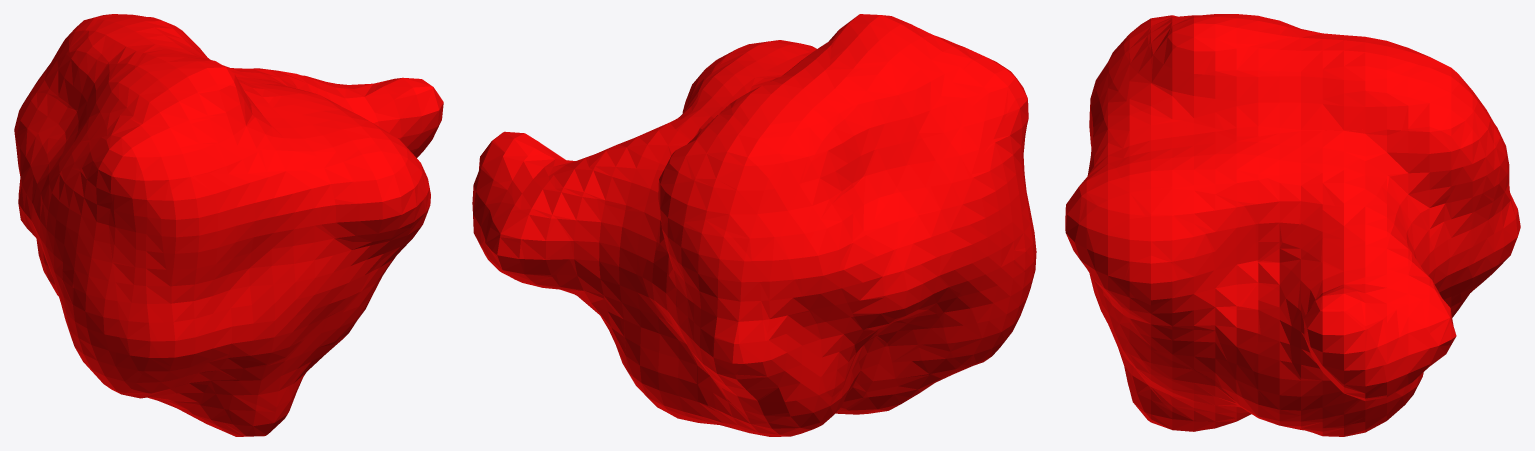
The model's file is rbsD_coarse.dae.
3 views of the same model, side by side, from view 1: azimuth 30°, elevation 25°; view 2: azimuth 150°, elevation 25°; view 3: azimuth 270°, elevation 25° (orthographic). The views are drawn at different scales.
Visible parts, largest first — view 1: rbsD; view 2: rbsD; view 3: rbsD.
Part boxes in pixels (x1=…): rbsD: x1=14, y1=14, x2=443, y2=436; rbsD: x1=472, y1=14, x2=1036, y2=436; rbsD: x1=1065, y1=14, x2=1520, y2=436.
Size of the model in its own units: 47.1 by 38.3 by 40.82.
